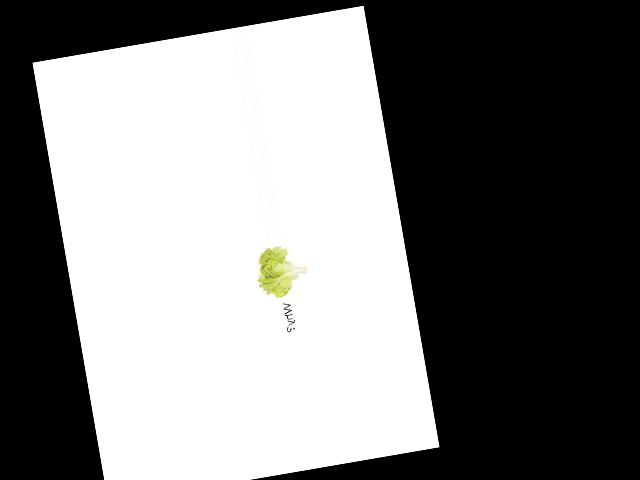lettuce: (252, 240, 312, 305)
